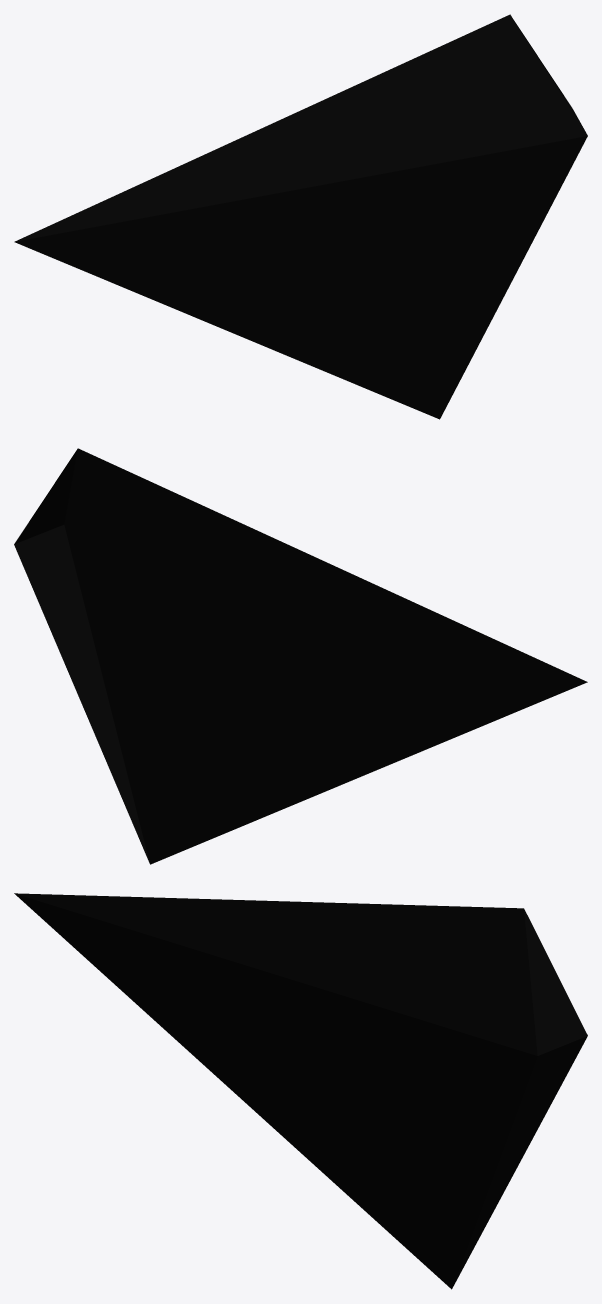
3 views of the same model, one above another, from view 1: azimuth 30°, elevation 25°; view 2: azimuth 150°, elevation 25°; view 3: azimuth 330°, elevation 25° (orthographic). The views are drawn at different scales.
Bounding box in the file's own units: 0.023 × 0.0153 × 0.0023.
1 material, 1 textured.
